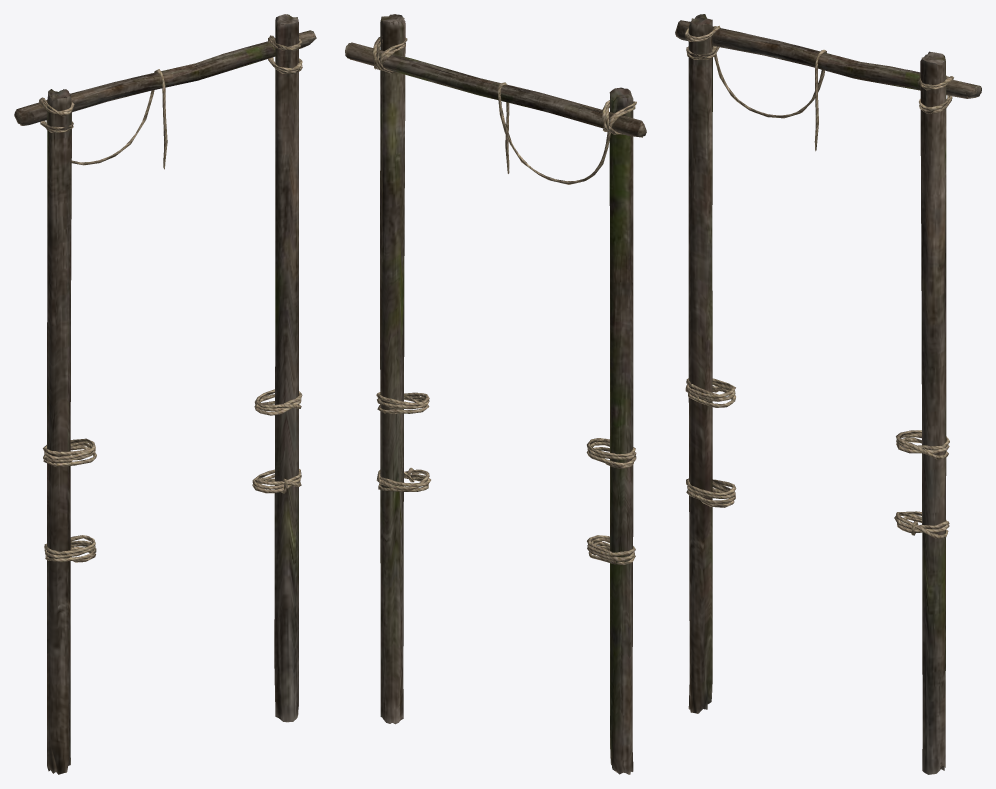
The model's file is mooring_frame.glb.
3 renders of one model, left to right at view 1: azimuth 30°, elevation 25°; view 2: azimuth 150°, elevation 25°; view 3: azimuth 330°, elevation 25°, orthographic. The views are drawn at different scales.
Parts seen in each view (by area): view 1: modular_wooden_pier_section_05; view 2: modular_wooden_pier_section_05; view 3: modular_wooden_pier_section_05.
Part boxes in pixels (bbox=[...]): modular_wooden_pier_section_05: bbox=[14, 14, 316, 774]; modular_wooden_pier_section_05: bbox=[345, 14, 646, 774]; modular_wooden_pier_section_05: bbox=[675, 14, 981, 774].
Bounding box in the file's own units: 3.1 × 7 × 0.4637.
Materials: 2 (2 with a texture image).
